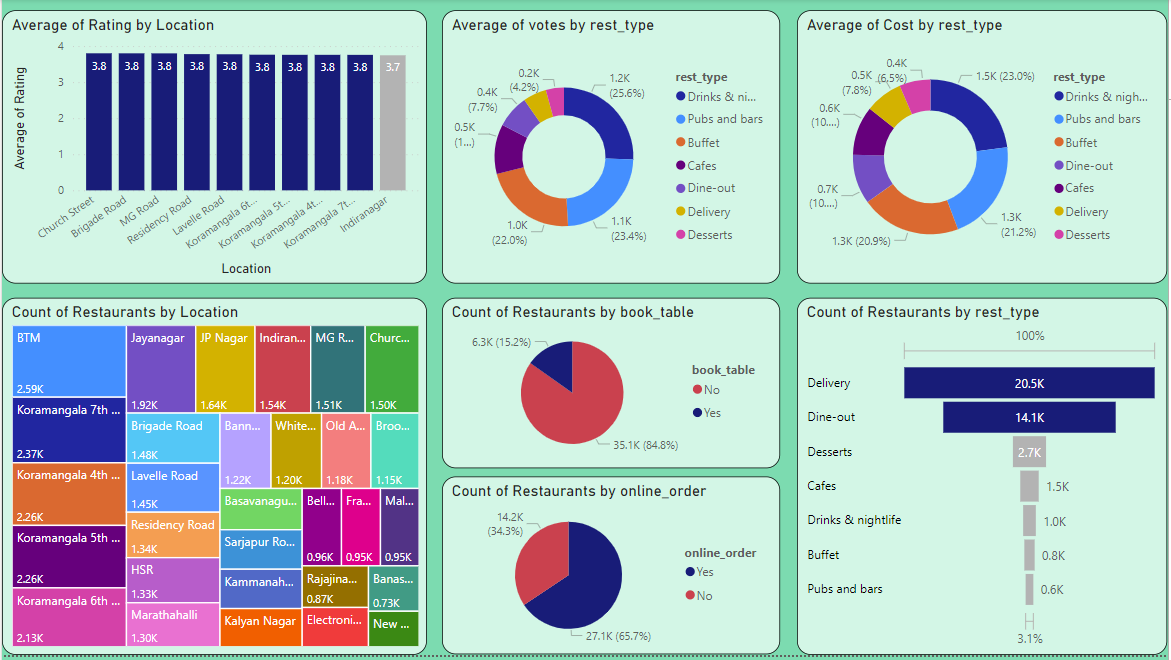

What the dashboard file says about the page in this screenshot:
{"tool":"powerbi","page":{"name":"Page 2","canvas":[1280,720],"ordinal":1},"visuals":[{"type":"donutChart","fields":{"Category":["Sheet1.rest_type"],"Y":["Avg(Sheet1.votes)"]},"box":[483.6,12.1,371.5,300.3],"z":0},{"type":"donutChart","fields":{"Category":["Sheet1.rest_type"],"Y":["Avg(Sheet1.Cost)"]},"box":[873.2,12.1,406.4,300.3],"z":1000},{"type":"pieChart","fields":{"Category":["Sheet1.online_order"],"Y":["CountNonNull(Sheet1.Restaurants)"]},"box":[483.6,524.6,371.5,195.4],"z":2000},{"type":"pieChart","fields":{"Category":["Sheet1.book_table"],"Y":["CountNonNull(Sheet1.Restaurants)"]},"box":[483.6,328,371.5,186.9],"z":3000},{"type":"funnel","fields":{"Category":["Sheet1.rest_type"],"Y":["CountNonNull(Sheet1.Restaurants)"]},"box":[873.2,328,406.4,392],"z":4000},{"type":"columnChart","fields":{"Category":["Sheet1.Location"],"Y":["Avg(Sheet1.Rating)"]},"box":[0,12.1,466.7,300.3],"z":5000},{"type":"treemap","fields":{"Group":["Sheet1.Location"],"Values":["CountNonNull(Sheet1.Restaurants)"]},"box":[0,328,466.7,392],"z":6000}]}

Visuals, with their boxes in screenshot pixels (x1, y1, x2, y2), scaled from the page's 1280x720 canvas onto the 1171x660 screenshot:
donutChart - Sheet1.rest_type x Avg(Sheet1.votes): region(442, 11, 782, 286)
donutChart - Sheet1.rest_type x Avg(Sheet1.Cost): region(799, 11, 1170, 286)
pieChart - Sheet1.online_order x CountNonNull(Sheet1.Restaurants): region(442, 481, 782, 659)
pieChart - Sheet1.book_table x CountNonNull(Sheet1.Restaurants): region(442, 301, 782, 472)
funnel - Sheet1.rest_type x CountNonNull(Sheet1.Restaurants): region(799, 301, 1170, 659)
columnChart - Sheet1.Location x Avg(Sheet1.Rating): region(0, 11, 427, 286)
treemap - Sheet1.Location x CountNonNull(Sheet1.Restaurants): region(0, 301, 427, 659)
